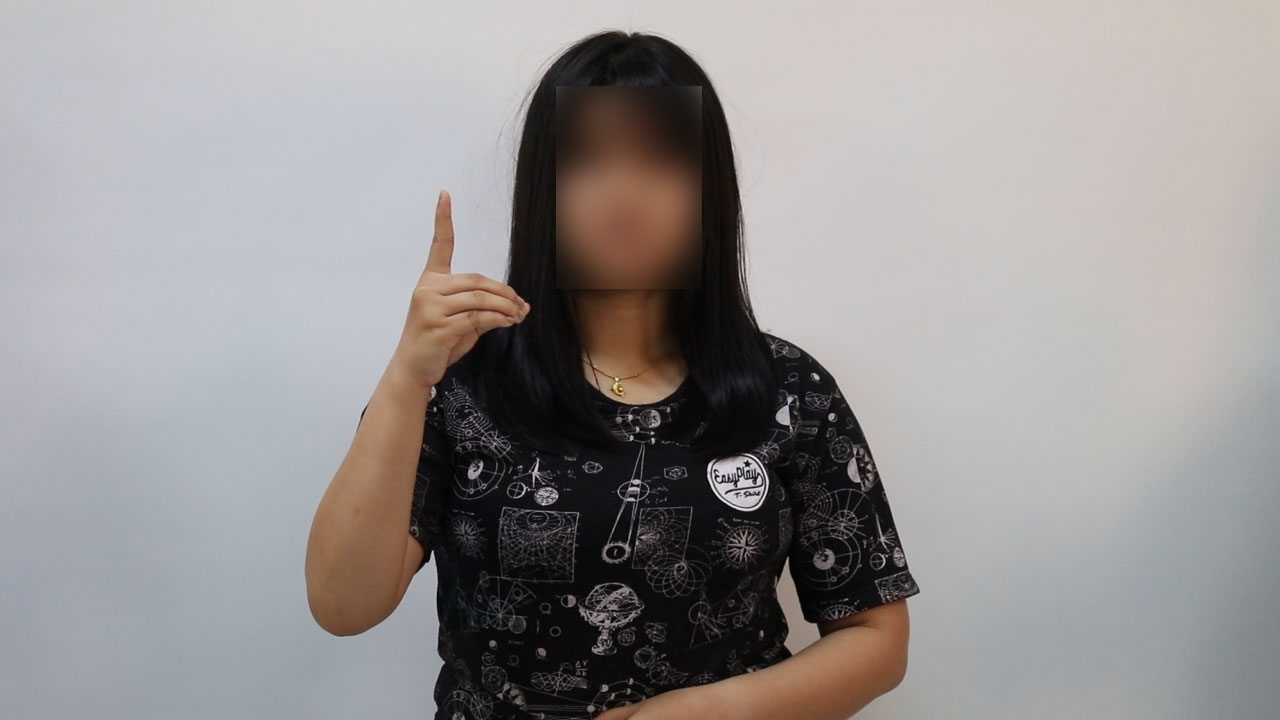dor: (370, 181, 536, 402)
